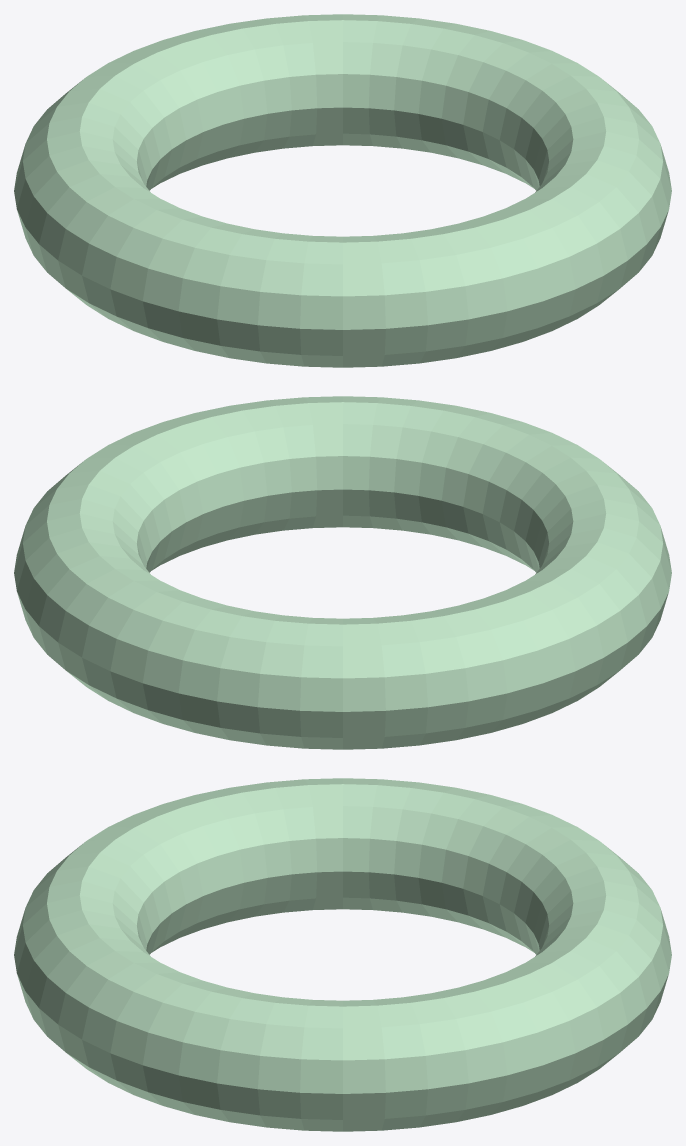
The model's file is davidConeC1.gltf.
3 views of the same model, one above another, from view 1: azimuth 30°, elevation 25°; view 2: azimuth 150°, elevation 25°; view 3: azimuth 270°, elevation 25° (orthographic).
Visible parts, largest first — view 1: davidConeC1; view 2: davidConeC1; view 3: davidConeC1.
Part boxes in pixels (x1=…): davidConeC1: x1=14, y1=14, x2=671, y2=367; davidConeC1: x1=14, y1=396, x2=671, y2=749; davidConeC1: x1=14, y1=778, x2=671, y2=1131.
Size of the model in its own units: 0.4236 by 0.0847 by 0.4236.
